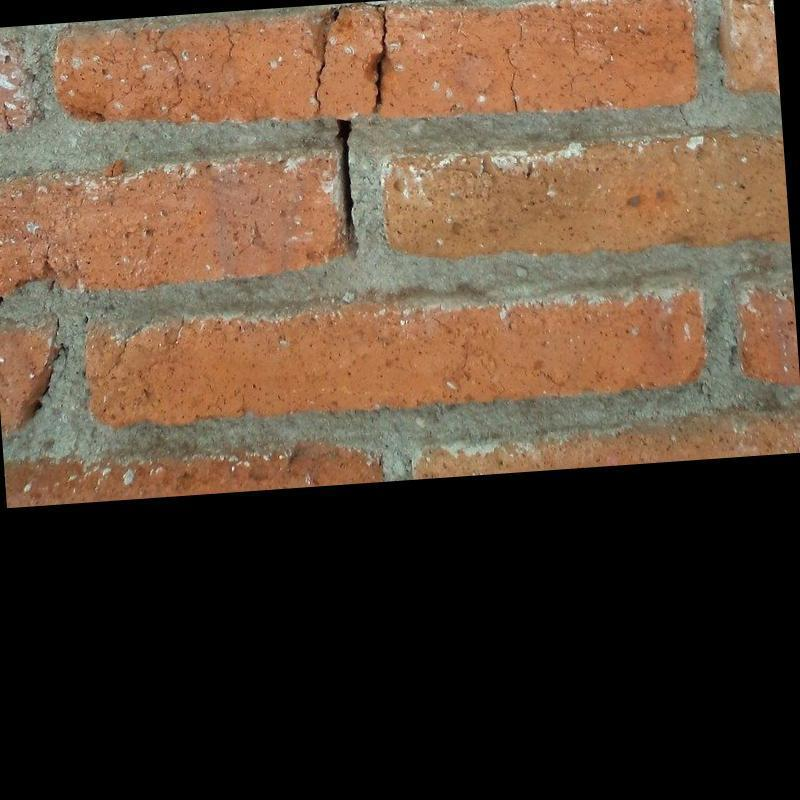crack: (332, 115, 357, 248), (368, 1, 391, 120)
